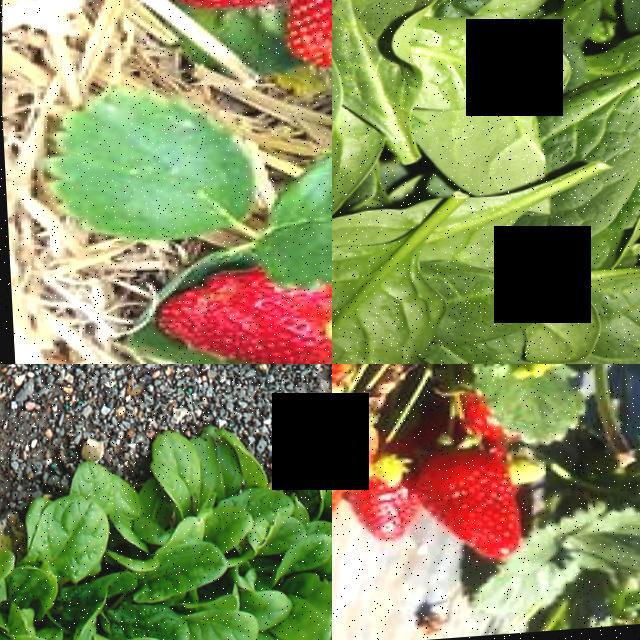spinach: (417, 16, 570, 129), (332, 243, 447, 364), (433, 261, 560, 357), (103, 535, 233, 612), (332, 0, 443, 76), (291, 421, 332, 512), (178, 604, 256, 640), (269, 601, 329, 640)
strawberry: (147, 281, 331, 364), (401, 447, 521, 569)
